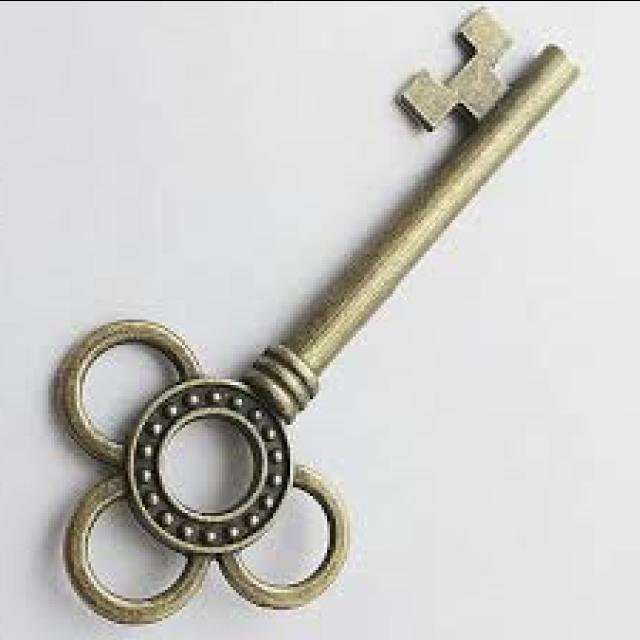key: (53, 11, 603, 631)
